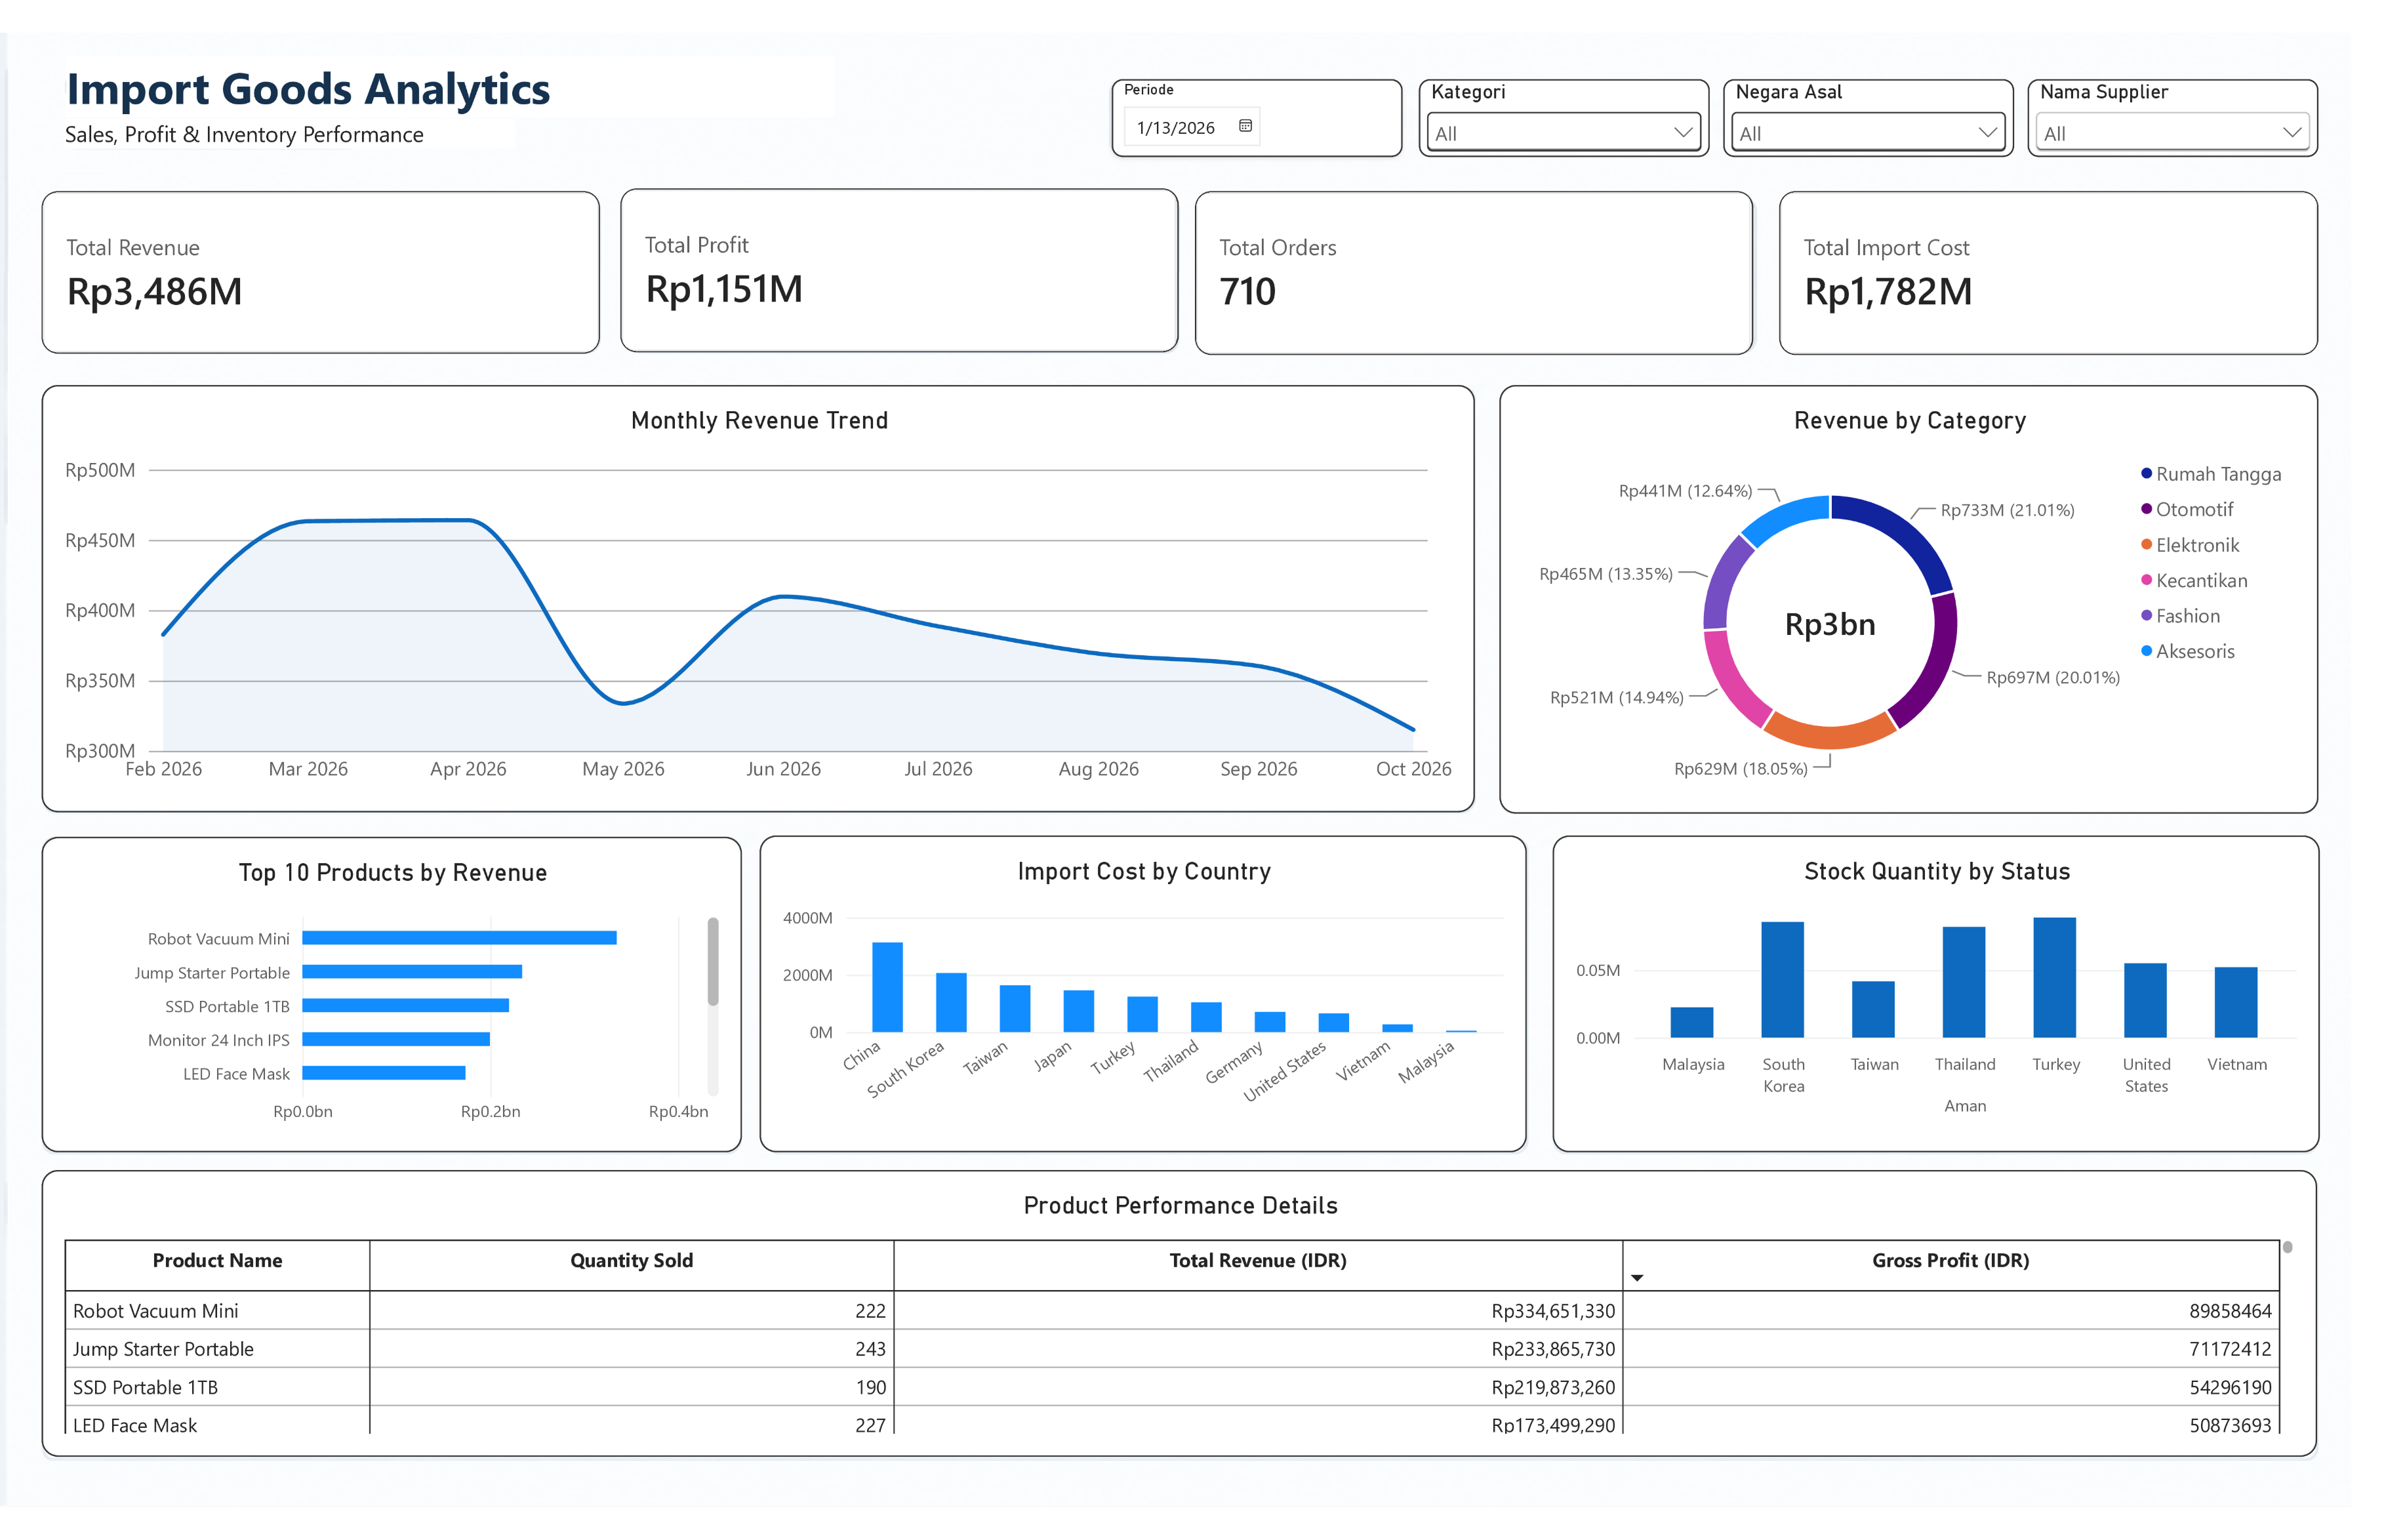

The page's visual inventory and layout, read from the dashboard file:
{"tool":"powerbi","page":{"name":"Page 1","canvas":[1920,1080],"ordinal":0},"visuals":[{"type":"lineChart","title":"Monthly Revenue Trend","fields":{"Category":["Dim_Tanggal.TahunBulan"],"Y":["Sum(Fact_Penjualan.RevenueIDR)"]},"box":[228,258,1050,313],"z":0},{"type":"donutChart","title":"Revenue by Category","fields":{"Category":["Dim_Produk.Kategori"],"Y":["Sum(Fact_Penjualan.RevenueIDR)"]},"box":[1296,258,600,314],"z":1000},{"type":"barChart","title":"Top 10 Products by Revenue","fields":{"Category":["Dim_Produk.NamaProduk"],"Y":["Sum(Fact_Penjualan.RevenueIDR)"]},"box":[227.8,588.9,513.3,231.1],"z":2000},{"type":"columnChart","title":"Import Cost by Country","fields":{"Category":["Dim_Produk.NegaraAsal"],"Y":["Sum(Fact_Impor.TotalLandedCostIDR)"]},"box":[754,588,562,232],"z":3000},{"type":"columnChart","title":"Stock Quantity by Status","fields":{"Category":["Fact_StokBulanan.StatusStok","Dim_Produk.NegaraAsal"],"Y":["Sum(Fact_StokBulanan.QtyStok)"]},"box":[1335,588.3,562,232],"z":4000},{"type":"pivotTable","title":"Product Performance Details","fields":{"Rows":["Dim_Produk.NamaProduk"],"Values":["Sum(Fact_Penjualan.QtyTerjual)","Sum(Fact_Penjualan.RevenueIDR)","Sum(Fact_Penjualan.GrossProfitIDR)"]},"box":[227.5,832.5,1667.5,210],"z":5000},{"type":"cardVisual","fields":{"Data":["Fact_Penjualan.Total Revenue"]},"box":[228,116,409,119],"z":6000},{"type":"cardVisual","fields":{"Data":["Fact_Penjualan.Total Profit"]},"box":[652.2,114.4,408.9,120],"z":7000},{"type":"cardVisual","fields":{"Data":["Fact_Penjualan.Total Orders"]},"box":[1073.3,115.6,408.9,120],"z":8000},{"type":"cardVisual","fields":{"Data":["Fact_Penjualan.Total Import Cost"]},"box":[1501,116,395,120],"z":9000},{"type":"slicer","fields":{"Values":["Dim_Tanggal.TahunBulan"]},"box":[1012.1,33.6,212.9,57.1],"z":10000},{"type":"slicer","fields":{"Values":["Dim_Produk.Kategori"]},"box":[1237.1,34.3,212.9,57.1],"z":11000},{"type":"slicer","fields":{"Values":["Dim_Produk.Kategori"]},"box":[2568,47,213,55],"z":12000},{"type":"slicer","fields":{"Values":["Dim_Produk.NegaraAsal"]},"box":[1460,33.6,212.9,57.9],"z":13000},{"type":"slicer","fields":{"Values":["Dim_Supplier.NamaSupplier"]},"box":[1682.9,33.6,212.9,57.9],"z":14000},{"type":"textbox","box":[245.6,16.7,563.3,45.6],"z":15000},{"type":"textbox","box":[244.5,62.7,330.9,21.8],"z":16000}]}

Visuals, with their boxes on the page's 1920x1080 design canvas (x1, y1, x2, y2). These are canvas units, not pixel positions in the 2384x1540 screenshot, which may show the page scaled, cropped or inside an application window:
"Monthly Revenue Trend" lineChart: {"left": 228, "top": 258, "right": 1278, "bottom": 571}
"Revenue by Category" donutChart: {"left": 1296, "top": 258, "right": 1896, "bottom": 572}
"Top 10 Products by Revenue" barChart: {"left": 228, "top": 589, "right": 741, "bottom": 820}
"Import Cost by Country" columnChart: {"left": 754, "top": 588, "right": 1316, "bottom": 820}
"Stock Quantity by Status" columnChart: {"left": 1335, "top": 588, "right": 1897, "bottom": 820}
"Product Performance Details" pivotTable: {"left": 228, "top": 832, "right": 1895, "bottom": 1042}
cardVisual - Fact_Penjualan.Total Revenue: {"left": 228, "top": 116, "right": 637, "bottom": 235}
cardVisual - Fact_Penjualan.Total Profit: {"left": 652, "top": 114, "right": 1061, "bottom": 234}
cardVisual - Fact_Penjualan.Total Orders: {"left": 1073, "top": 116, "right": 1482, "bottom": 236}
cardVisual - Fact_Penjualan.Total Import Cost: {"left": 1501, "top": 116, "right": 1896, "bottom": 236}
slicer - Dim_Tanggal.TahunBulan: {"left": 1012, "top": 34, "right": 1225, "bottom": 91}
slicer - Dim_Produk.Kategori: {"left": 1237, "top": 34, "right": 1450, "bottom": 91}
slicer - Dim_Produk.Kategori: {"left": 2568, "top": 47, "right": 2781, "bottom": 102}
slicer - Dim_Produk.NegaraAsal: {"left": 1460, "top": 34, "right": 1673, "bottom": 92}
slicer - Dim_Supplier.NamaSupplier: {"left": 1683, "top": 34, "right": 1896, "bottom": 92}
textbox: {"left": 246, "top": 17, "right": 809, "bottom": 62}
textbox: {"left": 244, "top": 63, "right": 575, "bottom": 84}
